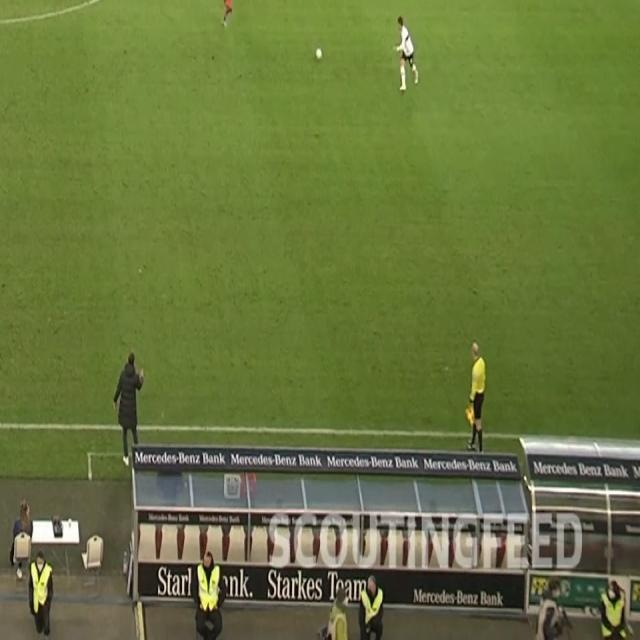ball: (314, 46, 324, 61)
